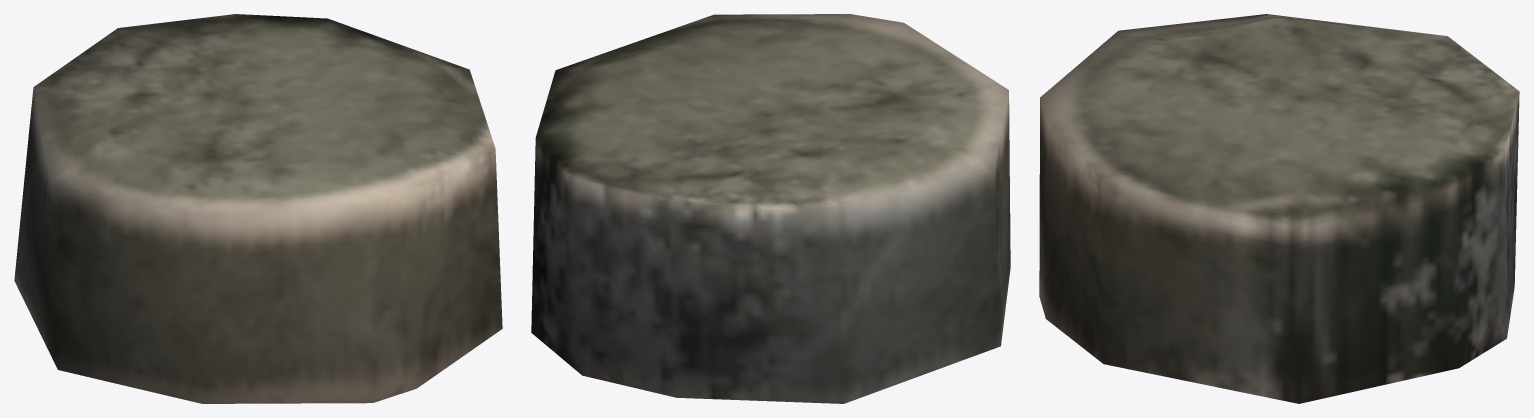
File: zamok5.fbx
The picture shows the model from 3 angles, left to right: view 1: azimuth 30°, elevation 25°; view 2: azimuth 150°, elevation 25°; view 3: azimuth 270°, elevation 25°; orthographic projection.
Parts seen in each view (by area): view 1: Lp+.005; view 2: Lp+.005; view 3: Lp+.005.
Boxes of the visible parts, <box> form: Lp+.005: <box>14,14,502,403</box>; Lp+.005: <box>531,14,1010,403</box>; Lp+.005: <box>1039,14,1519,403</box>.
Bounding box in the file's own units: 278 × 128 × 268.
